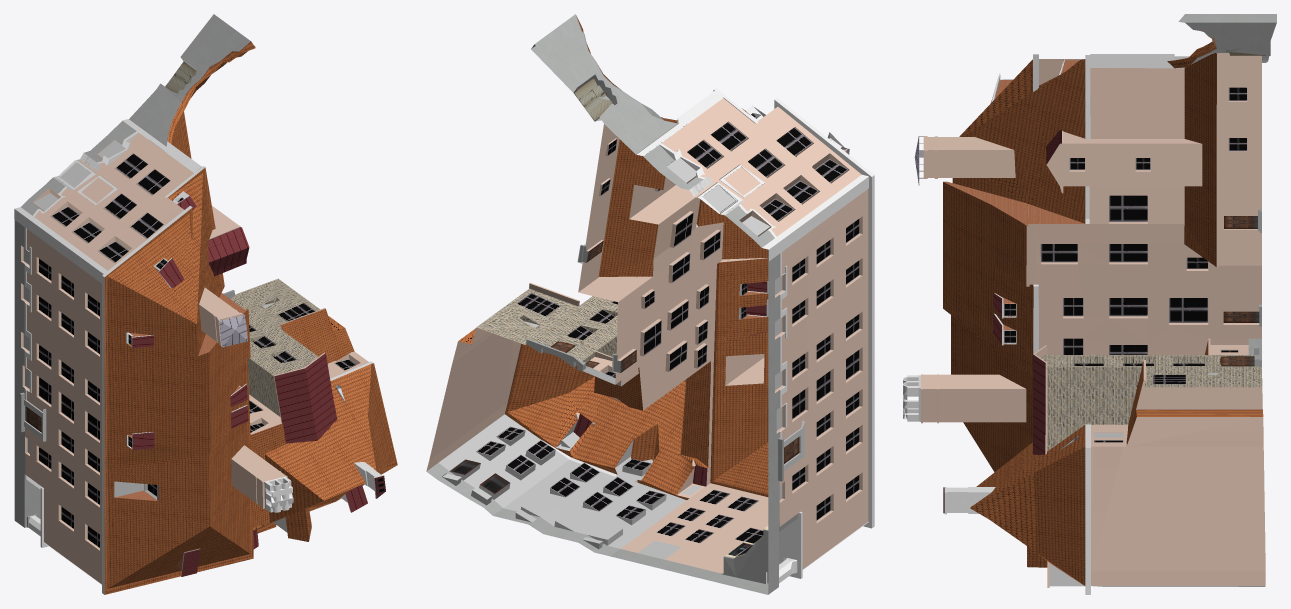
File: Pikk_1-origo.obj
3 views of the same model, side by side, from view 1: azimuth 30°, elevation 25°; view 2: azimuth 150°, elevation 25°; view 3: azimuth 270°, elevation 25° (orthographic). The views are drawn at different scales.
Visible parts, largest first — view 1: Pikk_1; view 2: Pikk_1; view 3: Pikk_1.
Boxes of the visible parts, x1,y1,x2,y2 form: Pikk_1: [14, 14, 397, 594]; Pikk_1: [426, 14, 874, 594]; Pikk_1: [903, 14, 1276, 594].
Size of the model in its own units: 30.62 by 42.5 by 25.55.
